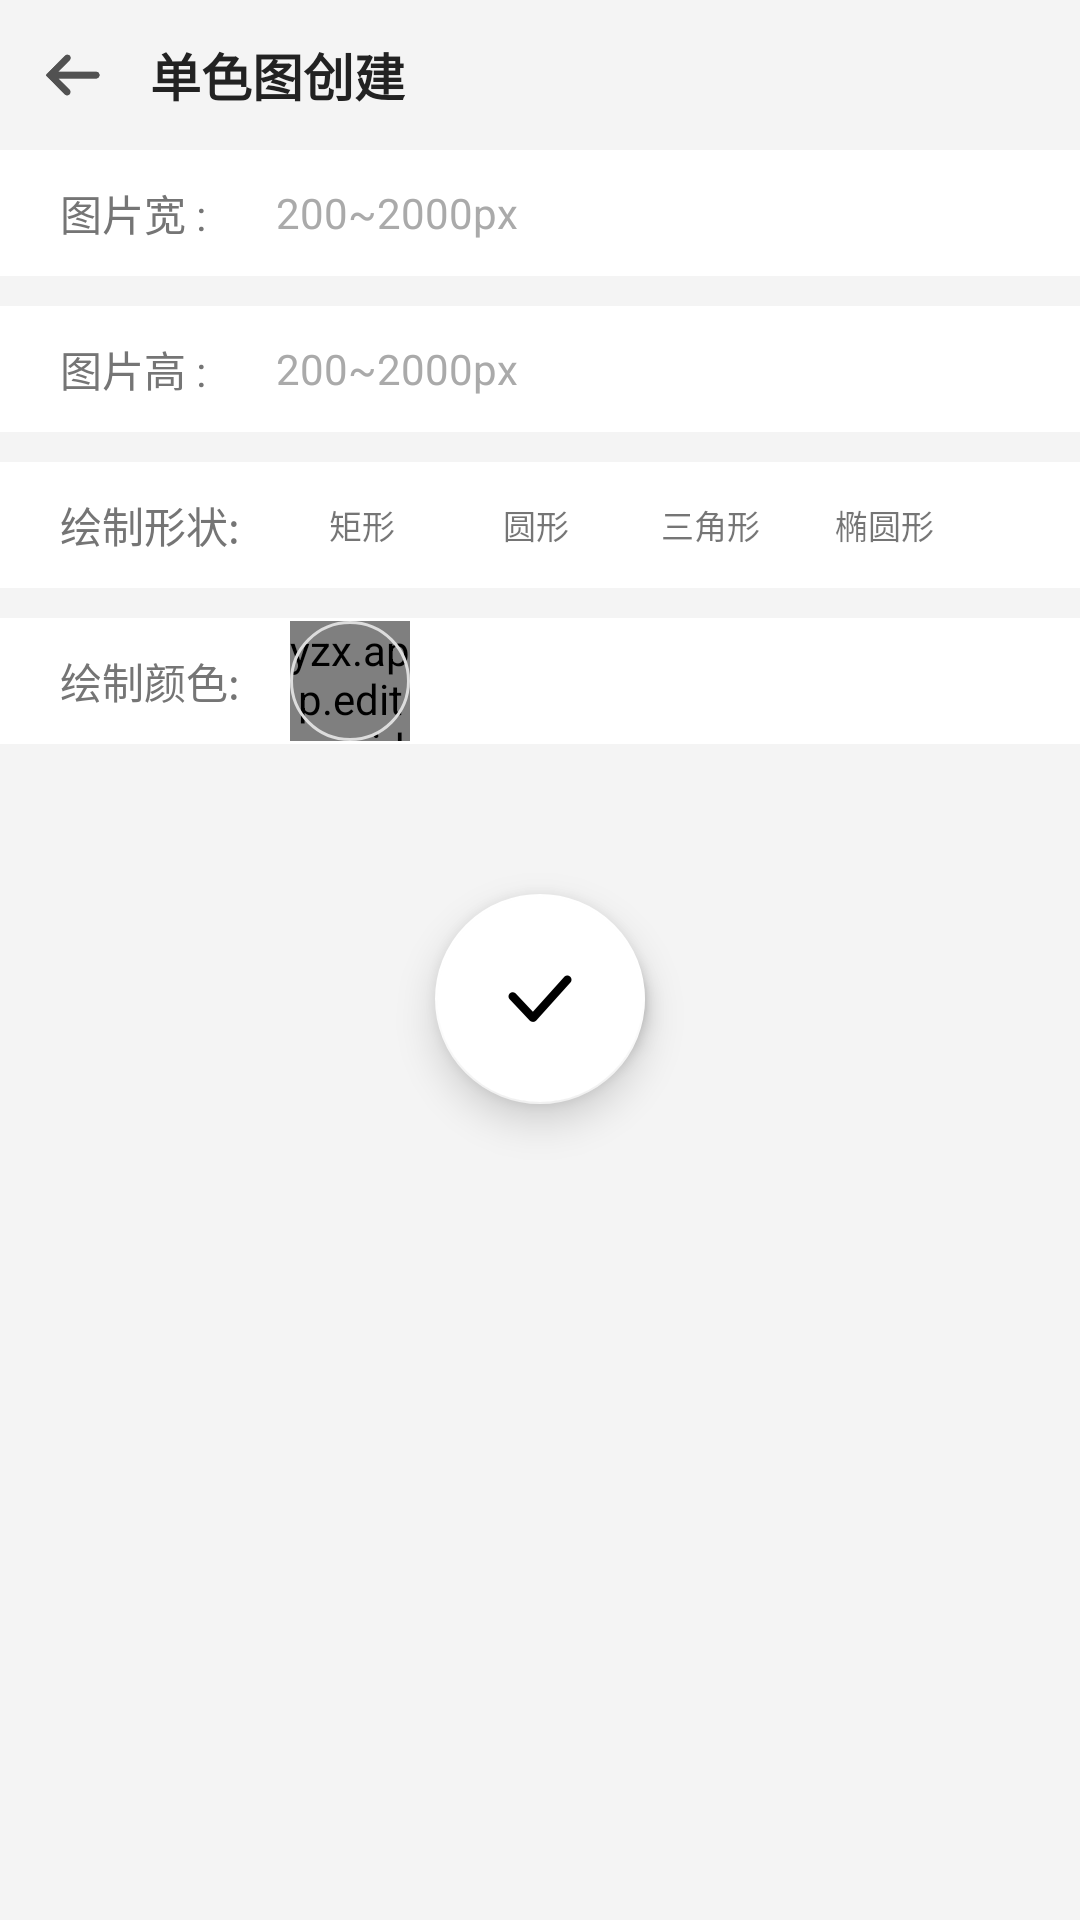

Where icons sit on this 1080w x 1920h app screen, as {"x1": x1, "y1": y1, "x2": x2, "y2": y2}:
arrow back: {"x1": 46, "y1": 54, "x2": 100, "y2": 96}
